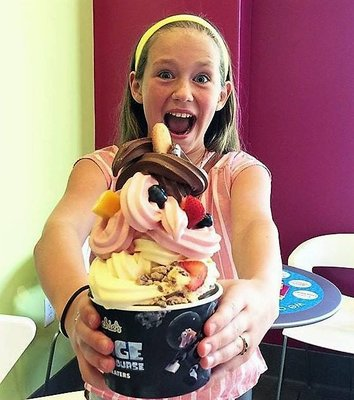pasta: (287, 233, 353, 297)
